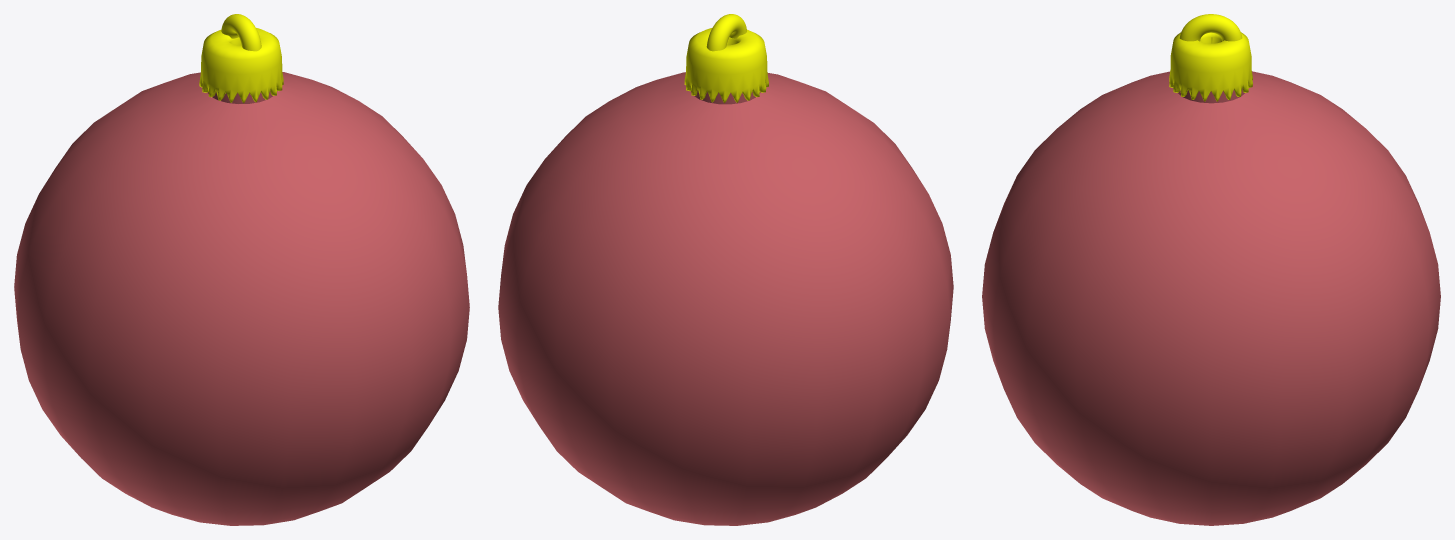
The model's file is focoRojo.obj.
The picture shows the model from 3 angles, left to right: view 1: azimuth 30°, elevation 25°; view 2: azimuth 150°, elevation 25°; view 3: azimuth 270°, elevation 25°; orthographic projection.
Parts seen in each view (by area): view 1: Glass_Ball1Red_Bulb, Red_Bulbtop_crownpPipe2, Red_BulbpTorus1top_crown; view 2: Glass_Ball1Red_Bulb, Red_Bulbtop_crownpPipe2, Red_BulbpTorus1top_crown; view 3: Glass_Ball1Red_Bulb, Red_Bulbtop_crownpPipe2, Red_BulbpTorus1top_crown.
Part boxes in pixels (x1,y1,x2,y2): Glass_Ball1Red_Bulb: [14, 72, 469, 525]; Red_Bulbtop_crownpPipe2: [199, 28, 283, 103]; Red_BulbpTorus1top_crown: [221, 14, 261, 51]; Glass_Ball1Red_Bulb: [498, 72, 953, 525]; Red_Bulbtop_crownpPipe2: [684, 28, 768, 103]; Red_BulbpTorus1top_crown: [706, 14, 746, 51]; Glass_Ball1Red_Bulb: [982, 71, 1440, 525]; Red_Bulbtop_crownpPipe2: [1169, 32, 1252, 101]; Red_BulbpTorus1top_crown: [1179, 14, 1242, 41].
Size of the model in its own units: 13.51 by 15.9 by 13.51.
2 materials, 2 textured.
